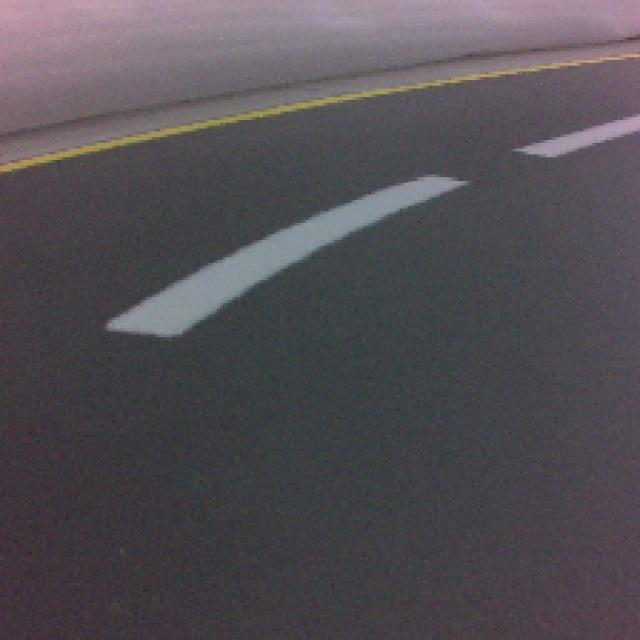Road: (0, 420, 640, 640)
